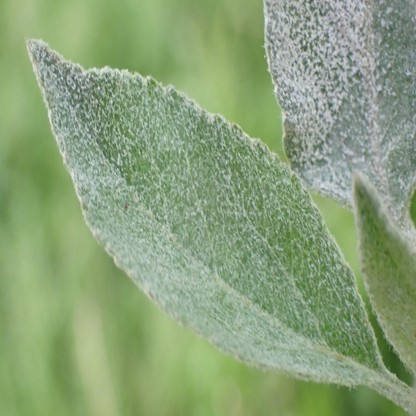powdery_mildew: (26, 38, 380, 388), (263, 1, 416, 205), (352, 171, 416, 372)
